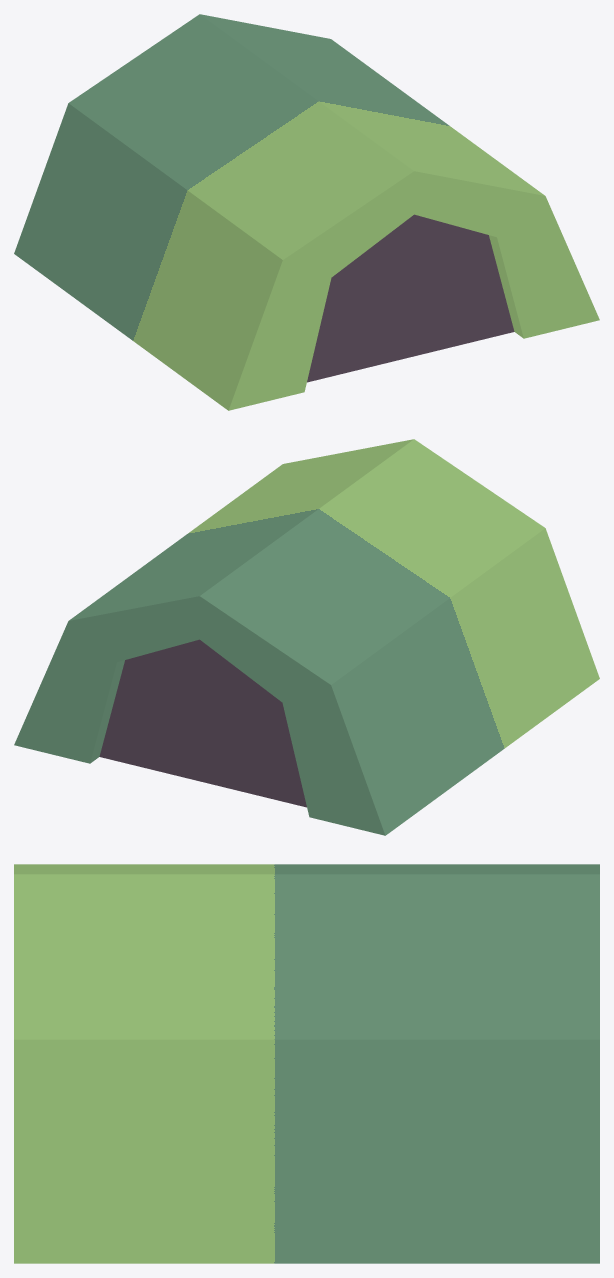
The model's file is Building1-TentModel.glb.
The picture shows the model from 3 angles, top to bottom: view 1: azimuth 30°, elevation 25°; view 2: azimuth 150°, elevation 25°; view 3: azimuth 270°, elevation 25°; orthographic projection. The views are drawn at different scales.
Parts seen in each view (by area): view 1: Cylinder.021; view 2: Cylinder.021; view 3: Cylinder.021.
Part boxes in pixels (bbox=[...]): Cylinder.021: bbox=[14, 14, 599, 410]; Cylinder.021: bbox=[14, 439, 599, 835]; Cylinder.021: bbox=[14, 864, 599, 1263].
Bounding box in the file's own units: 4.49 × 2.24 × 4.49.
1 material, 1 textured.
